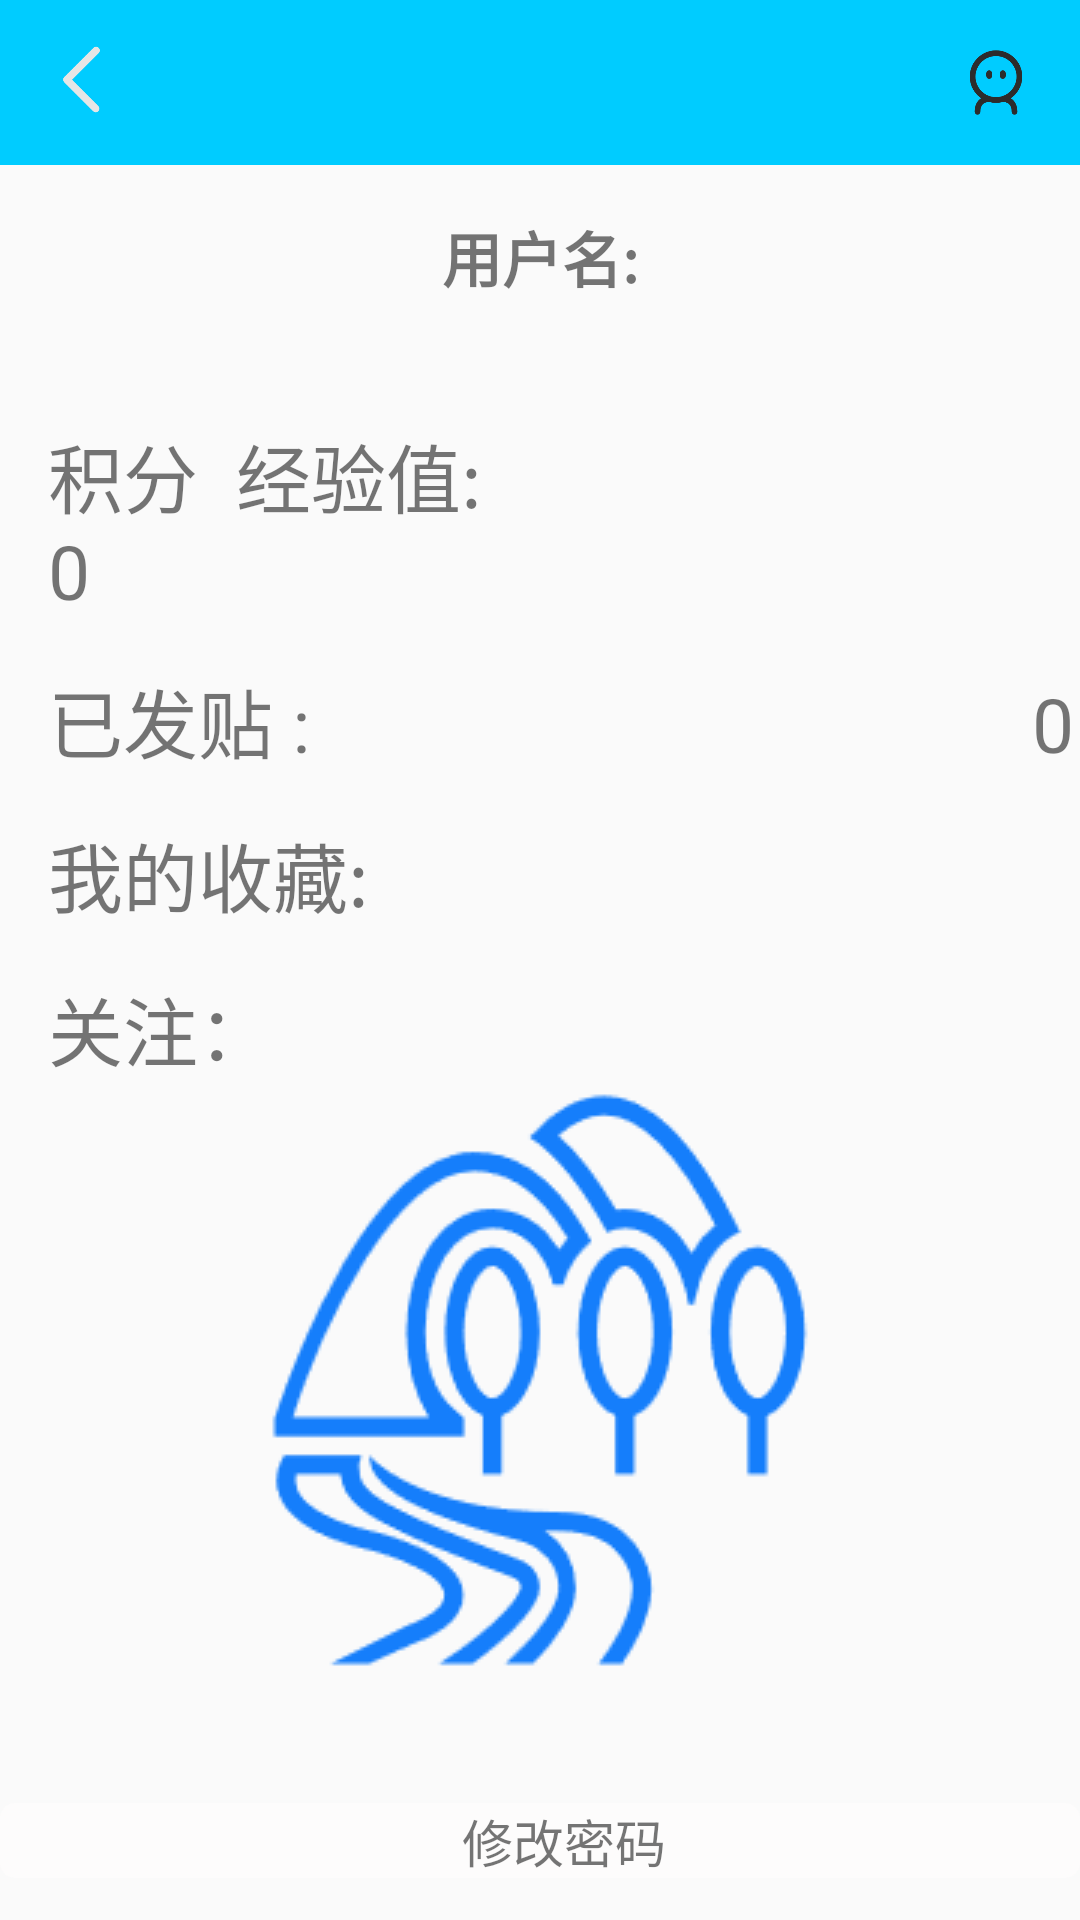

Screen size 1080px×1920px. Icon name, then its center in pixels as point (x, y):
back: point (81, 79)
